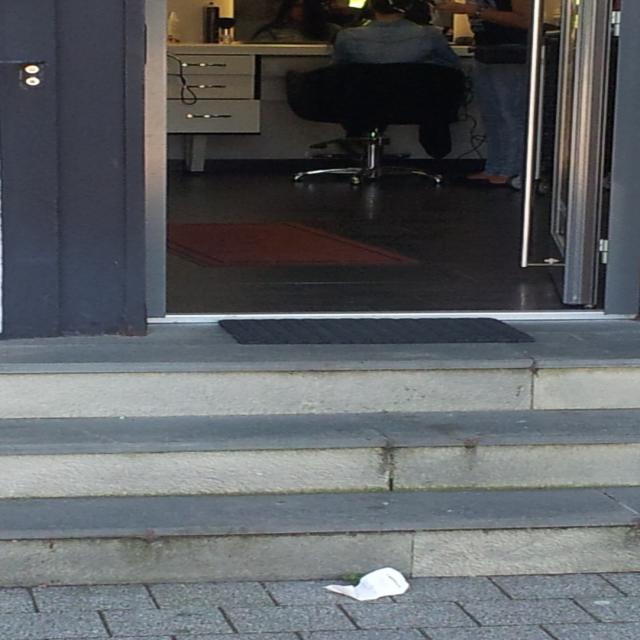AVOID: (0, 364, 640, 586)
